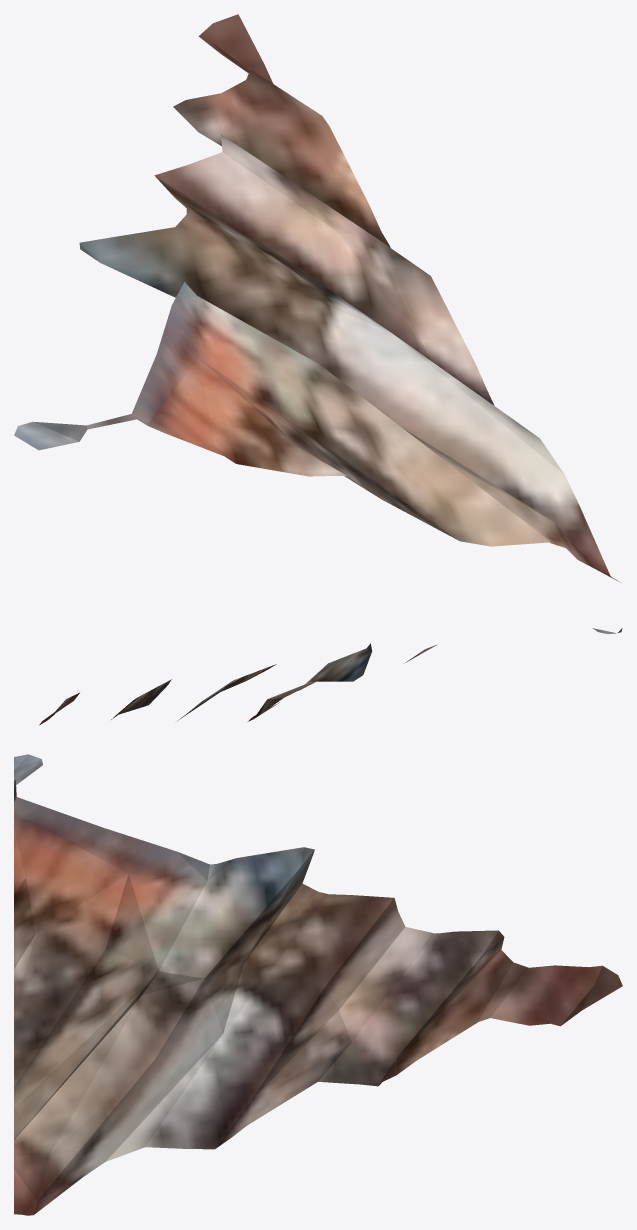
The picture shows the model from 3 angles, top to bottom: view 1: azimuth 30°, elevation 25°; view 2: azimuth 150°, elevation 25°; view 3: azimuth 270°, elevation 25°; orthographic projection. The views are drawn at different scales.
Size of the model in its own units: 0.8689 by 0.4013 by 0.9646.
Materials: 1 (1 with a texture image).
